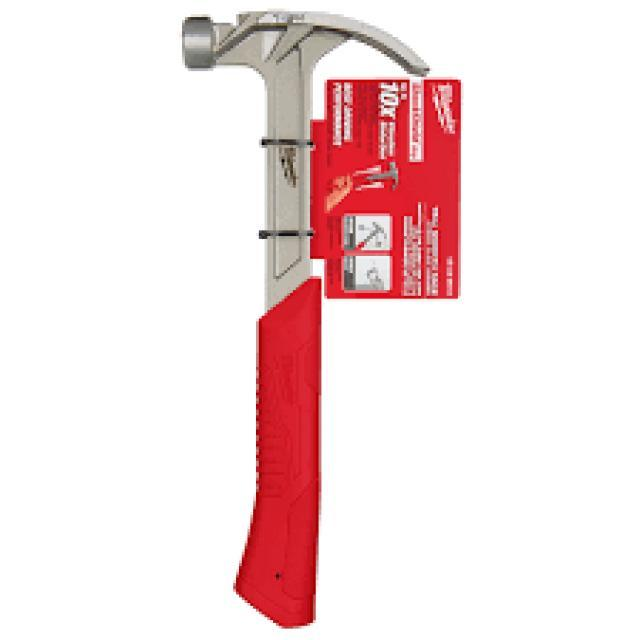hammer: (175, 5, 445, 640)
